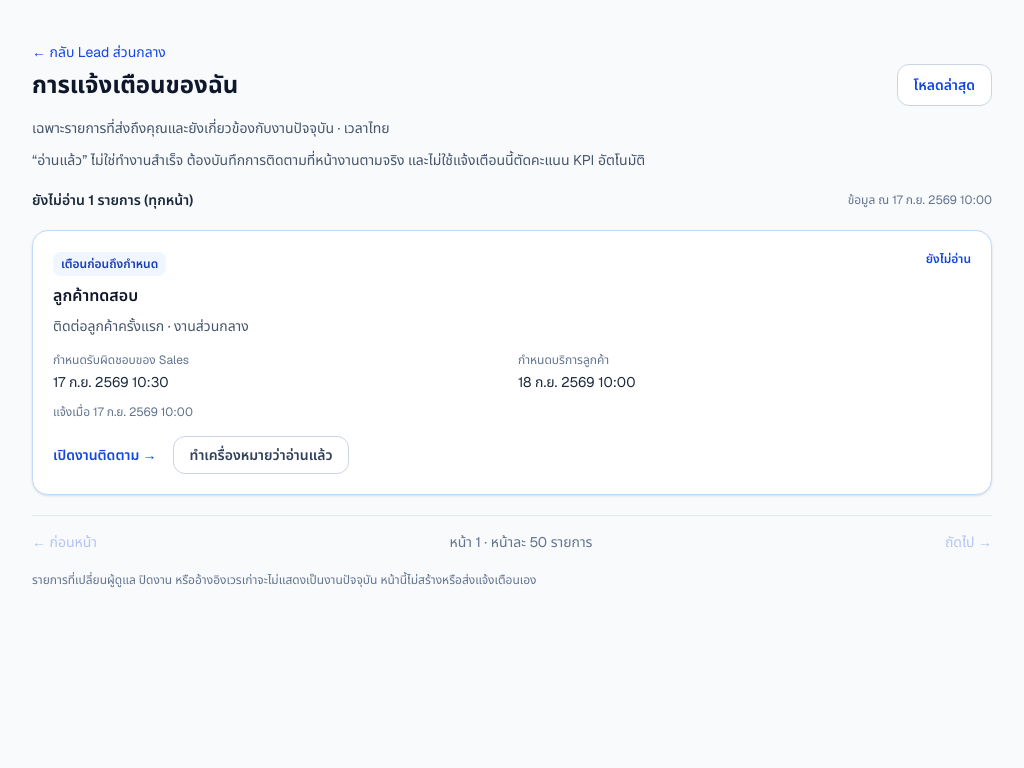
Test: own-recipient inbox › on an uncertain result permits safe same-notice retry without creating a new identity
Click the button "ทำเครื่องหมายว่าอ่านแล้ว" at (261, 455), box [173,436,350,474]
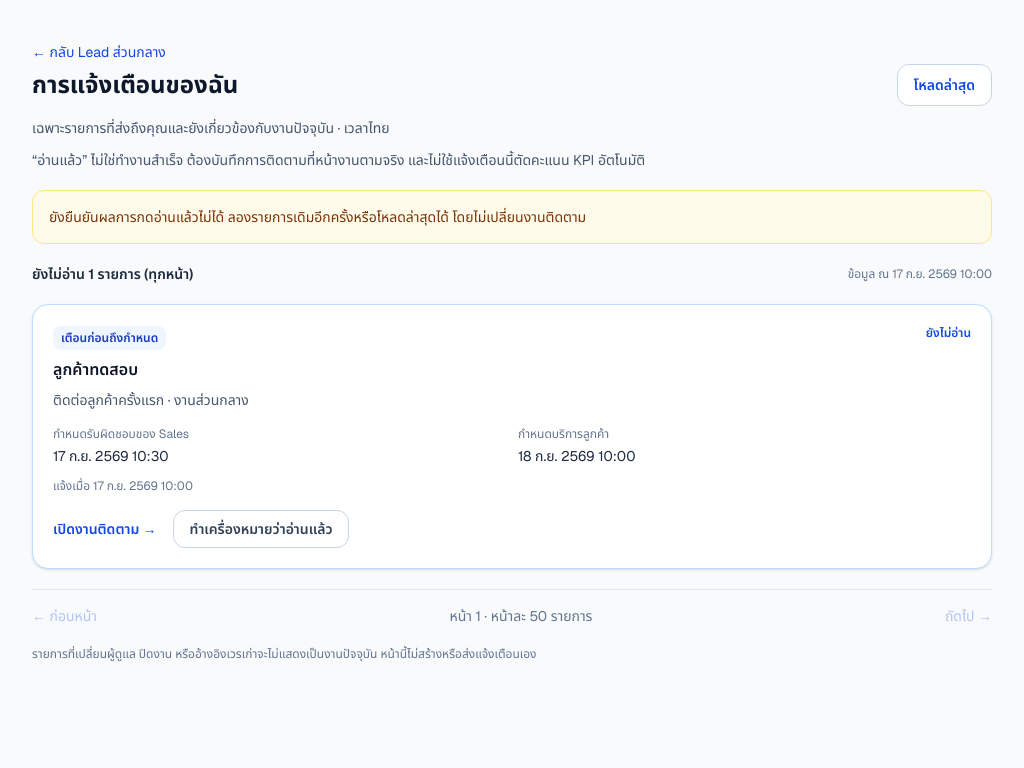
Result: the message is shown at [32,190,992,244]
Click the button "ทำเครื่องหมายว่าอ่านแล้ว" at (261, 529), box [173,510,350,548]
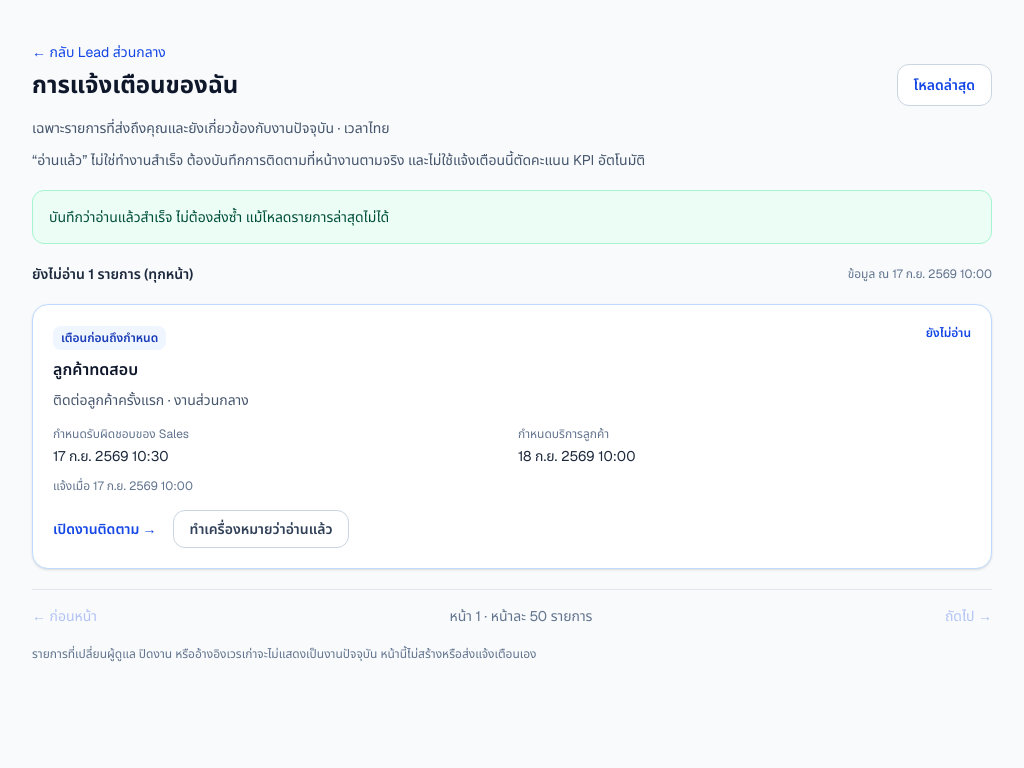
Result: the text "บันทึกว่าอ่านแล้วสำเร็จ ไม่ต้องส่งซ้ำ แม้โหลดรายการล่าสุดไม่ได้" is shown at [32,190,992,244]
